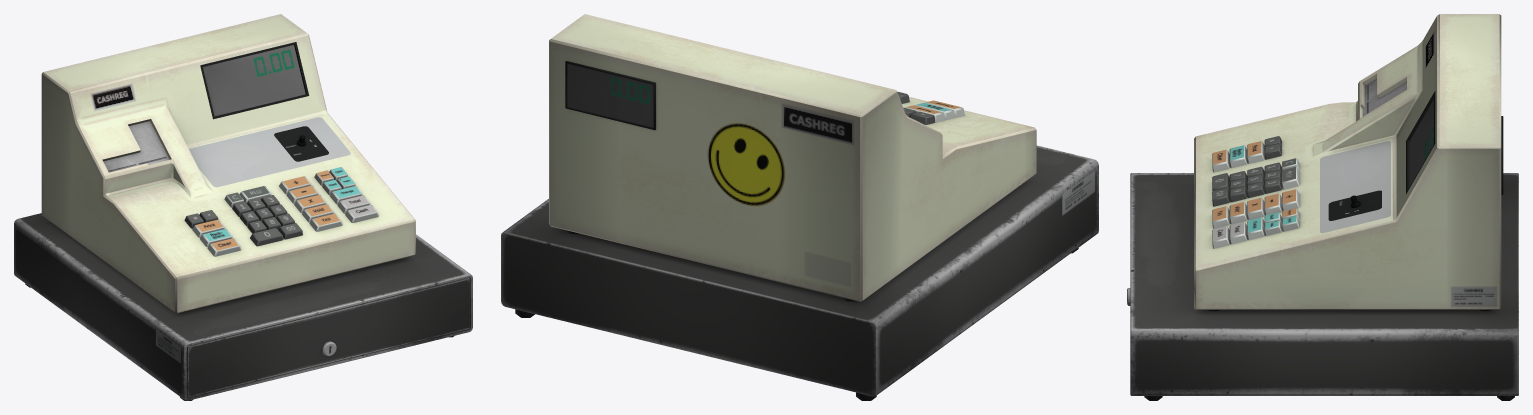
Rendered from video_store_cash_register.obj.
3 views of the same model, side by side, from view 1: azimuth 30°, elevation 25°; view 2: azimuth 150°, elevation 25°; view 3: azimuth 270°, elevation 25° (orthographic). The views are drawn at different scales.
Visible parts, largest first — view 1: Mesh74_Group105_Group1_Model; view 2: Mesh74_Group105_Group1_Model; view 3: Mesh74_Group105_Group1_Model.
Boxes of the visible parts, bbox=[...] form: Mesh74_Group105_Group1_Model: bbox=[14, 14, 472, 400]; Mesh74_Group105_Group1_Model: bbox=[501, 14, 1098, 400]; Mesh74_Group105_Group1_Model: bbox=[1127, 14, 1518, 400].
Size of the model in its own units: 0.42 by 0.2965 by 0.4337.
1 material, 1 textured.
